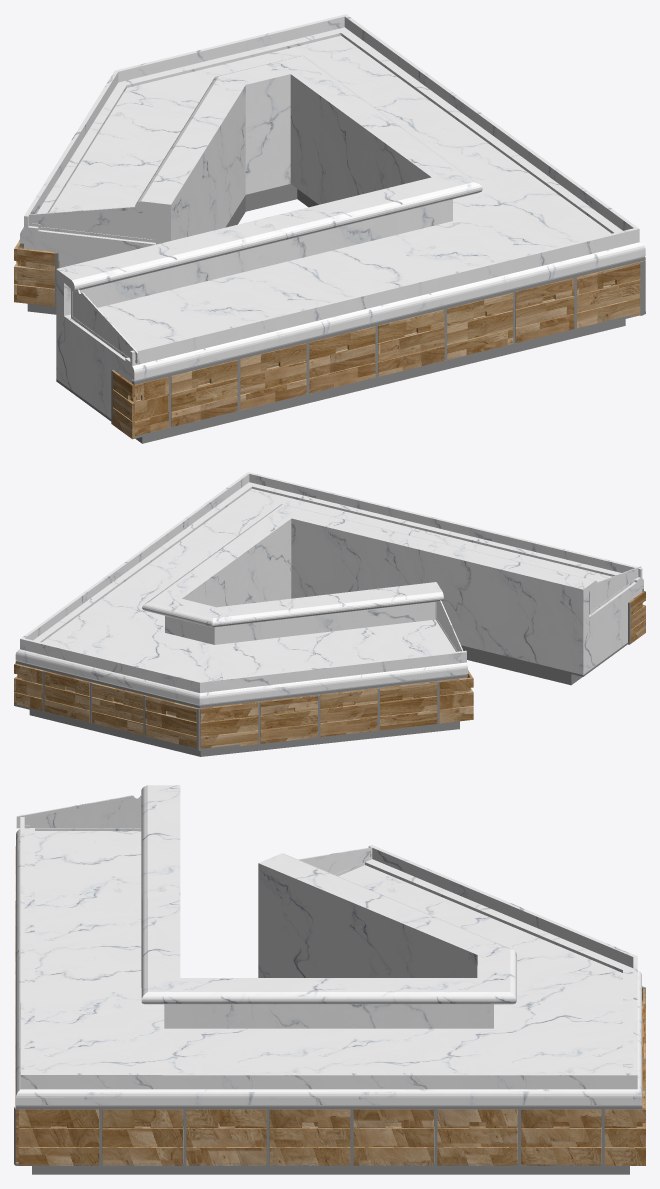
The model's file is lengChuang.glb.
3 views of the same model, one above another, from view 1: azimuth 30°, elevation 25°; view 2: azimuth 150°, elevation 25°; view 3: azimuth 270°, elevation 25° (orthographic). The views are drawn at different scales.
Parts seen in each view (by area): view 1: lengChuang; view 2: lengChuang; view 3: lengChuang.
Boxes of the visible parts, bbox=[...] form: lengChuang: bbox=[14, 14, 645, 443]; lengChuang: bbox=[14, 472, 645, 756]; lengChuang: bbox=[14, 785, 645, 1174].
Bounding box in the file's own units: 3.84 × 0.9059 × 3.89.
3 materials, 2 textured.
